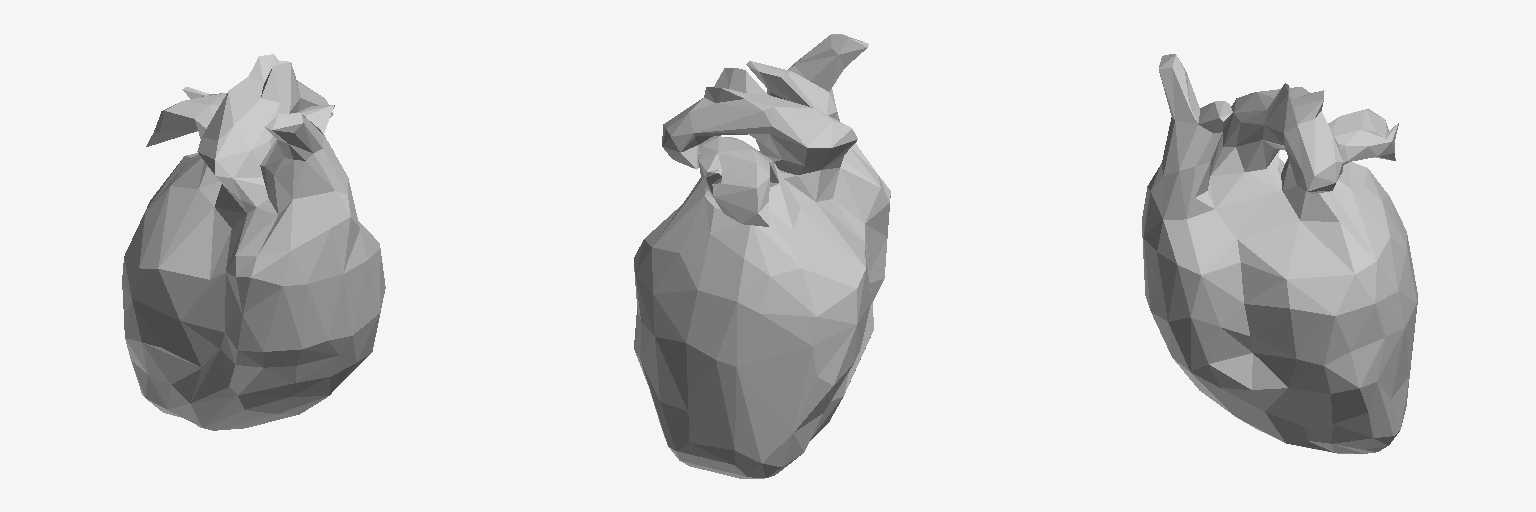
Rendered from heart-low-poly.obj.
3 views of the same model, side by side, from view 1: azimuth 30°, elevation 25°; view 2: azimuth 150°, elevation 25°; view 3: azimuth 270°, elevation 25° (orthographic).
Visible parts, largest first — view 1: Heart_Cube.001; view 2: Heart_Cube.001; view 3: Heart_Cube.001.
Part boxes in pixels (x1,y1,x2,y2): Heart_Cube.001: (122,54,385,430); Heart_Cube.001: (634,34,890,478); Heart_Cube.001: (1142,54,1417,453).
Bounding box in the file's own units: 1.99 × 3.33 × 2.23.